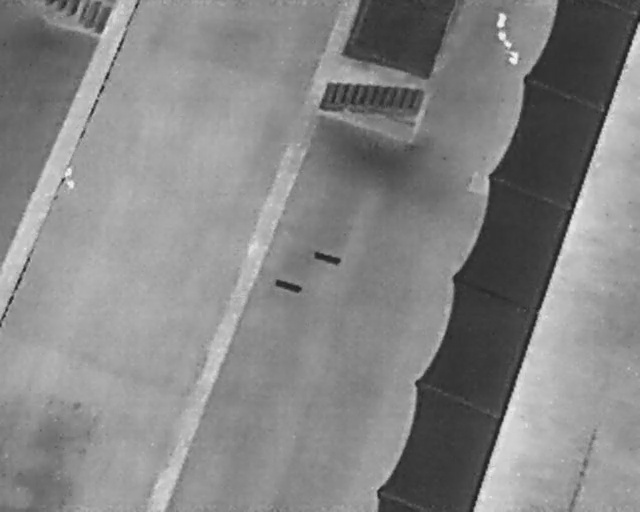Person: (63, 165, 77, 192)
